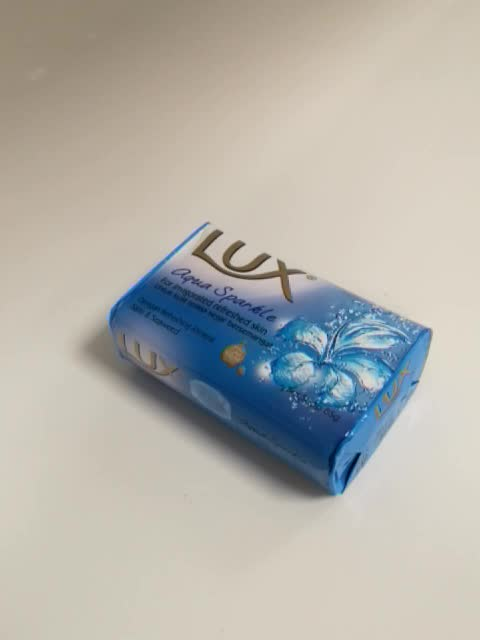soap: (106, 221, 433, 499)
